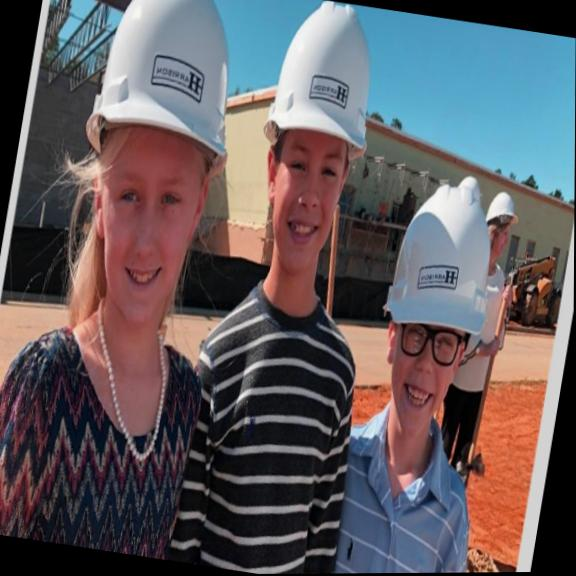no_safety_vest: (169, 279, 374, 575), (0, 290, 213, 562), (327, 397, 489, 574)
